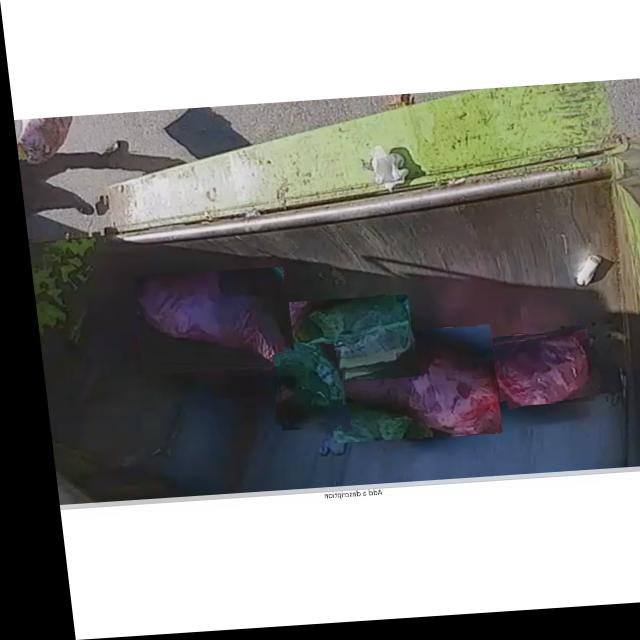general_trashbag: (284, 302, 403, 379), (270, 357, 331, 428)
other_trashbag: (322, 338, 491, 440), (129, 273, 283, 372), (490, 337, 578, 411)
